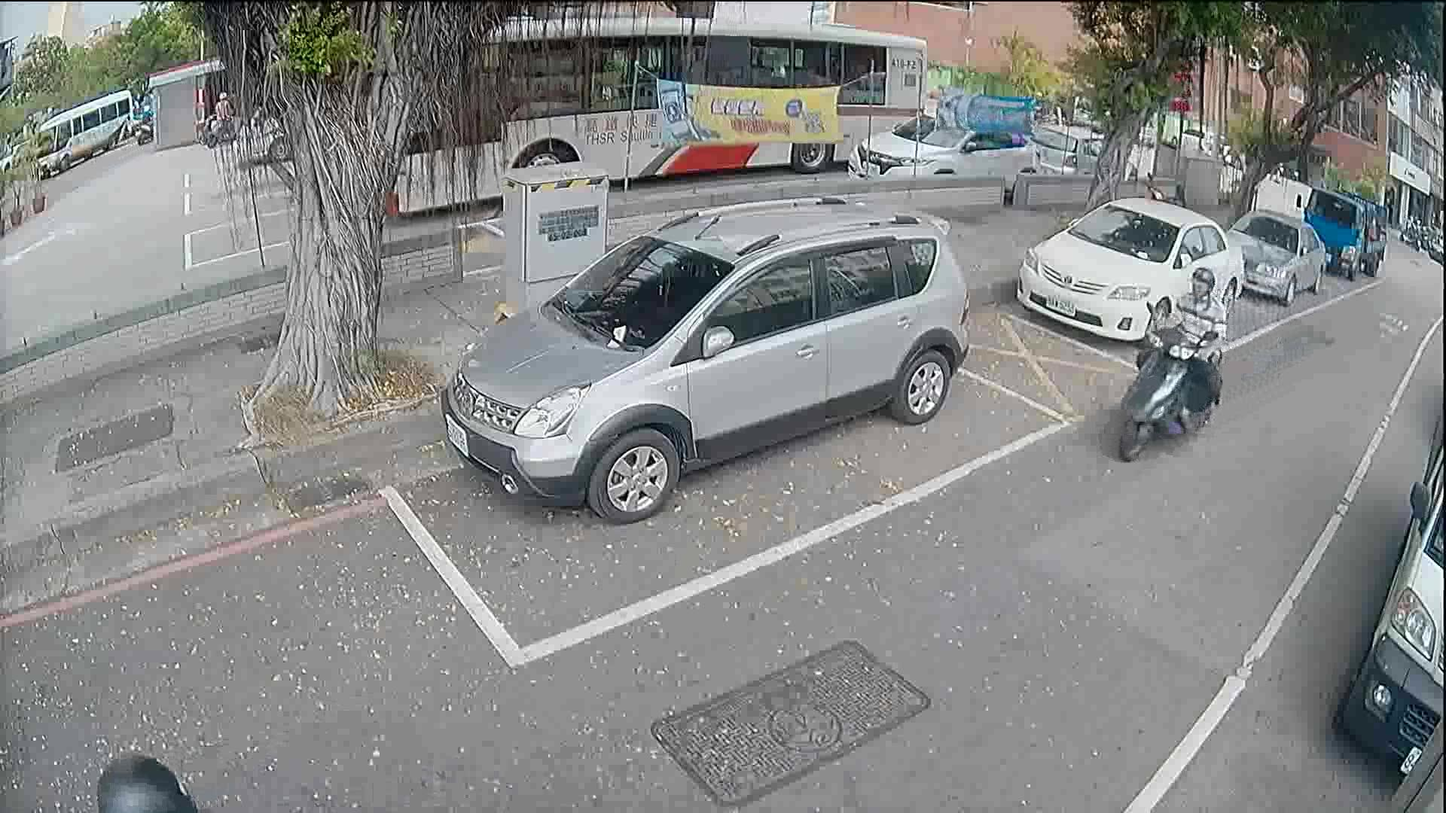person: (1133, 261, 1226, 434), (96, 749, 202, 812), (208, 85, 232, 143), (136, 100, 153, 129)
